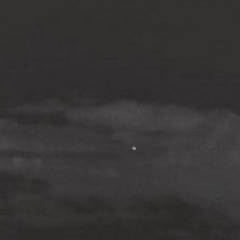Target: (130, 144, 138, 152)
